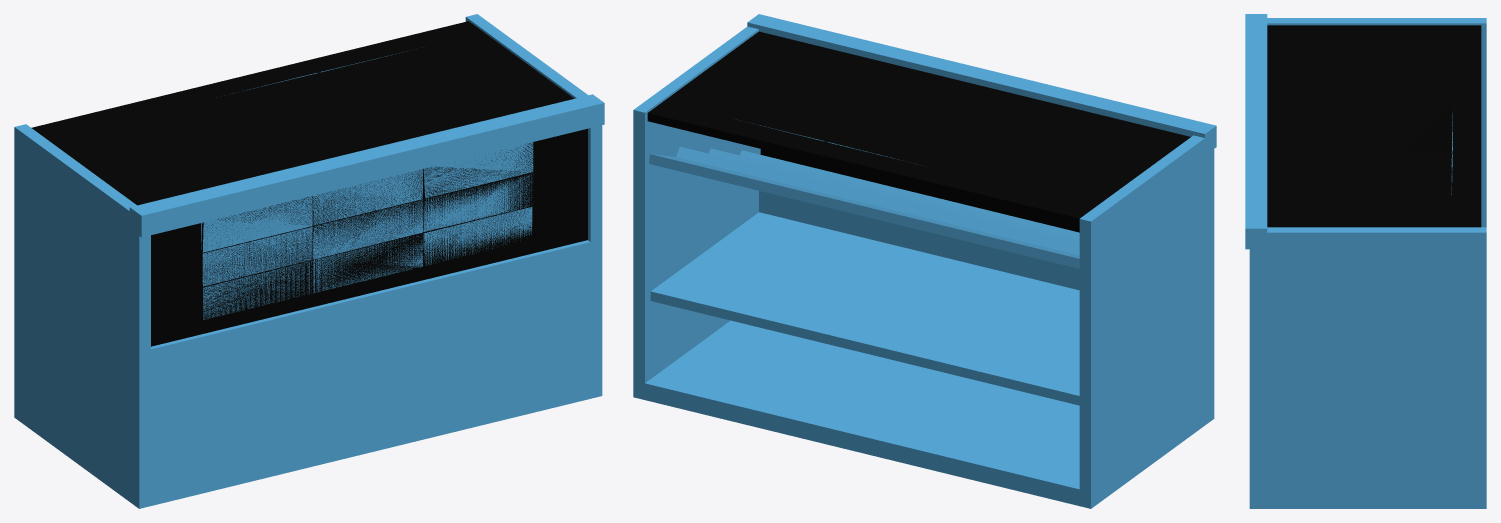
The model's file is SM_showcase_1_breakable.fbx.
The picture shows the model from 3 angles, left to right: view 1: azimuth 30°, elevation 25°; view 2: azimuth 150°, elevation 25°; view 3: azimuth 270°, elevation 25°; orthographic projection. The views are drawn at different scales.
Parts seen in each view (by area): view 1: Shelf, Glass, Broken Glass_cell.038, Broken Glass_cell.008, Broken Glass_cell.043, Broken Glass_cell.037, Broken Glass_cell.017, Broken Glass_cell.036, Broken Glass_cell.042, Broken Glass_cell.044, Broken Glass_cell.026, Broken Glass_cell.006 (+6 smaller); view 2: Shelf, Glass, Broken Glass_cell.040; view 3: Shelf, Glass, Broken Glass_cell.040.
Boxes of the visible parts, left/top/right/bottom form: Shelf: left=14, top=14, right=604, bottom=508; Glass: left=31, top=21, right=587, bottom=346; Broken Glass_cell.038: left=202, top=227, right=312, bottom=286; Broken Glass_cell.008: left=313, top=200, right=422, bottom=259; Broken Glass_cell.043: left=313, top=234, right=422, bottom=292; Broken Glass_cell.037: left=202, top=196, right=312, bottom=252; Broken Glass_cell.017: left=423, top=142, right=533, bottom=198; Broken Glass_cell.036: left=313, top=169, right=422, bottom=225; Broken Glass_cell.042: left=423, top=173, right=533, bottom=231; Broken Glass_cell.044: left=423, top=207, right=532, bottom=265; Broken Glass_cell.026: left=203, top=261, right=312, bottom=319; Broken Glass_cell.006: left=534, top=159, right=587, bottom=205; Shelf: left=633, top=14, right=1216, bottom=508; Glass: left=647, top=31, right=1190, bottom=232; Broken Glass_cell.040: left=826, top=121, right=932, bottom=167; Shelf: left=1245, top=14, right=1486, bottom=508; Glass: left=1267, top=25, right=1481, bottom=227; Broken Glass_cell.040: left=1397, top=102, right=1452, bottom=152.
Bounding box in the file's own units: 150 × 91.27 × 71.27.
